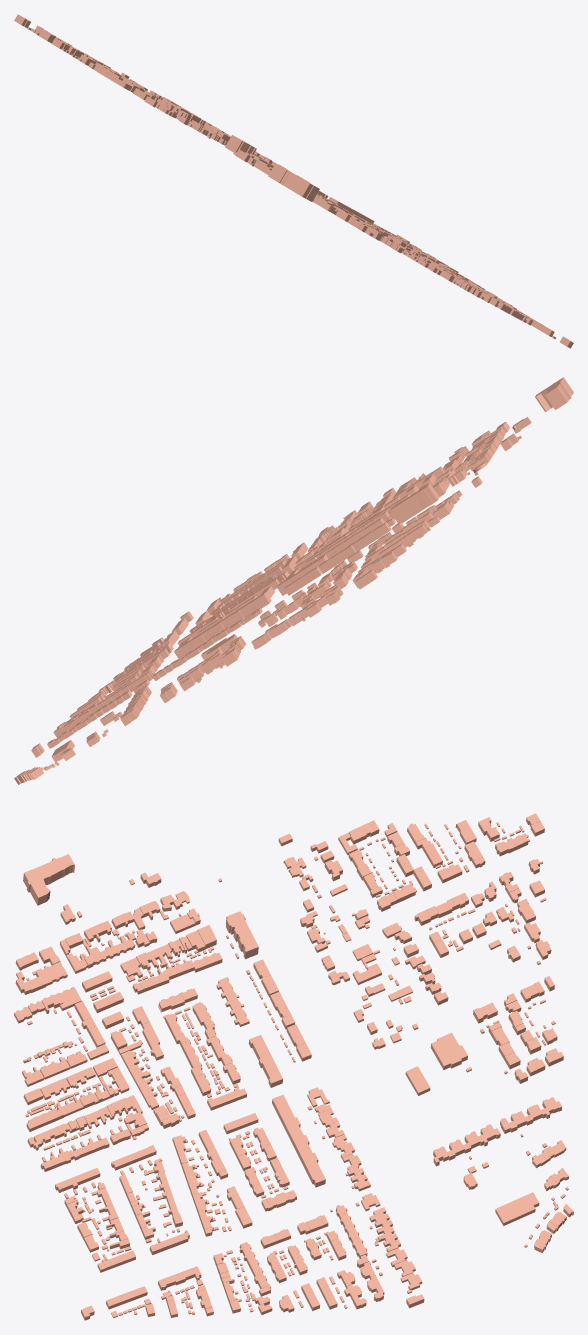
3 renders of one model, top to bottom at view 1: azimuth 30°, elevation 25°; view 2: azimuth 150°, elevation 25°; view 3: azimuth 270°, elevation 25°, orthographic. The views are drawn at different scales.
Bounding box in the file's own units: 527 × 384 × 625.
